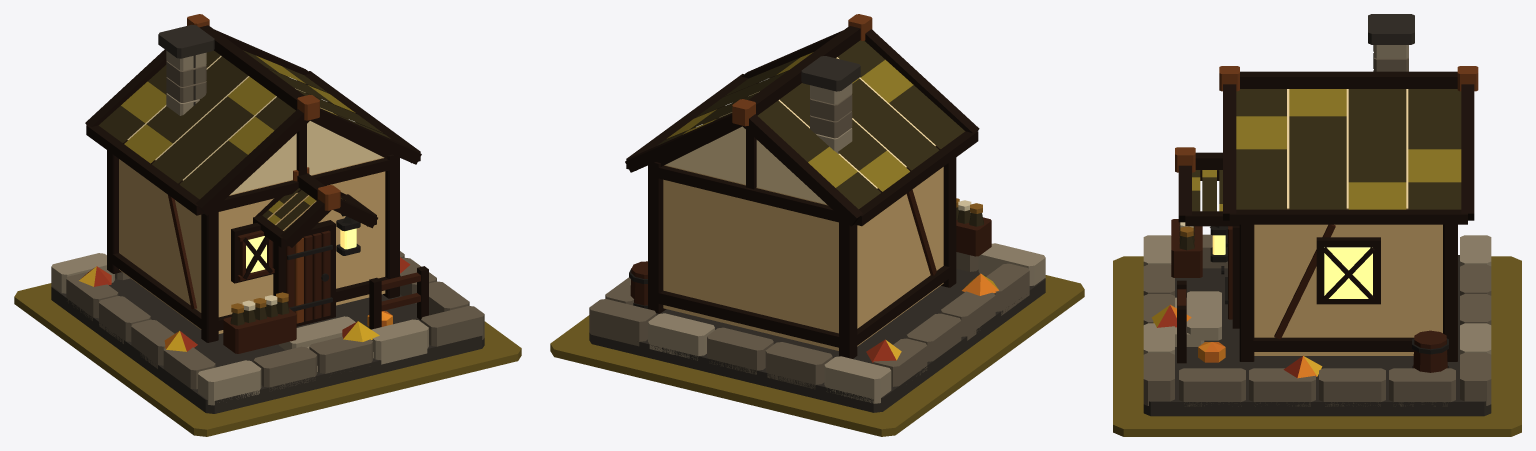
File: cottage_t3.glb
3 renders of one model, left to right at view 1: azimuth 30°, elevation 25°; view 2: azimuth 150°, elevation 25°; view 3: azimuth 270°, elevation 25°, orthographic. The views are drawn at different scales.
Visible parts, largest first — view 1: MMR | cottage | T03 Architecture.001, MMR | cottage | Tier 03 Ground.001, MMR | cottage | T03 Autumn Dressing.001; view 2: MMR | cottage | T03 Architecture.001, MMR | cottage | Tier 03 Ground.001, MMR | cottage | T03 Autumn Dressing.001; view 3: MMR | cottage | T03 Architecture.001, MMR | cottage | Tier 03 Ground.001, MMR | cottage | T03 Autumn Dressing.001.
Part boxes in pixels (left/top/right/bottom): MMR | cottage | T03 Architecture.001: left=51, top=14, right=484, bottom=413; MMR | cottage | Tier 03 Ground.001: left=14, top=283, right=521, bottom=436; MMR | cottage | T03 Autumn Dressing.001: left=79, top=257, right=410, bottom=351; MMR | cottage | T03 Architecture.001: left=589, top=14, right=1045, bottom=412; MMR | cottage | Tier 03 Ground.001: left=550, top=275, right=1084, bottom=436; MMR | cottage | T03 Autumn Dressing.001: left=866, top=273, right=998, bottom=362; MMR | cottage | T03 Architecture.001: left=1143, top=14, right=1491, bottom=416; MMR | cottage | Tier 03 Ground.001: left=1113, top=256, right=1521, bottom=436; MMR | cottage | T03 Autumn Dressing.001: left=1151, top=304, right=1322, bottom=378.
Bounding box in the file's own units: 2.35 × 1.92 × 2.35.
2 materials, 1 textured.
